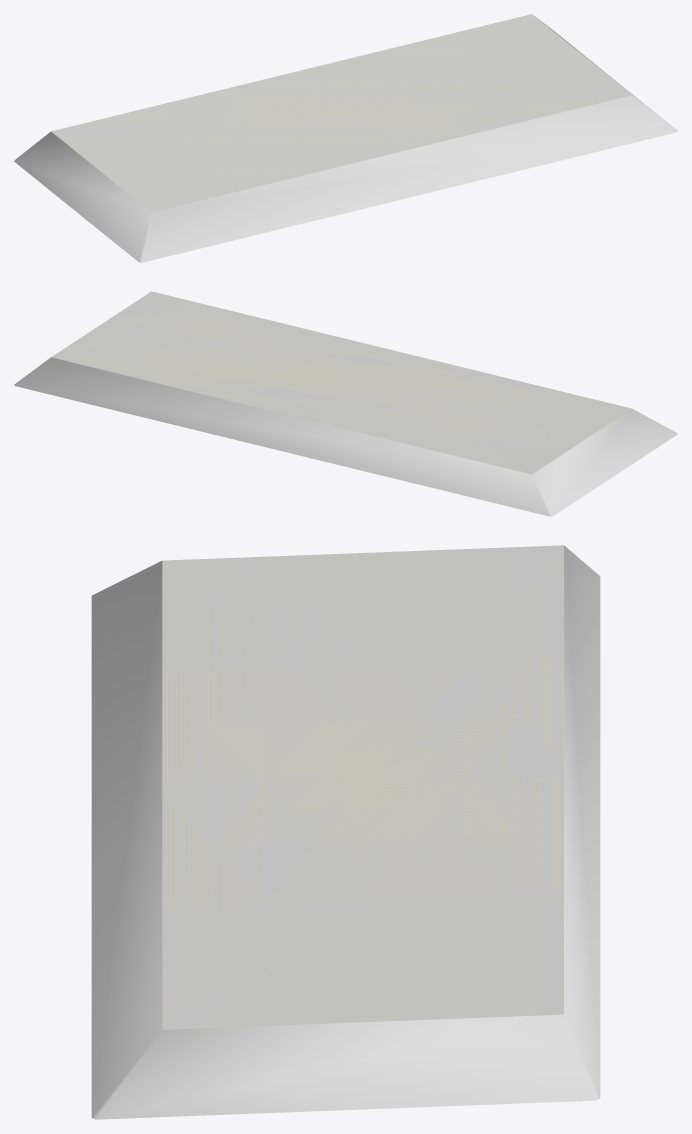
Rendered from original-66.obj.
The picture shows the model from 3 angles, top to bottom: view 1: azimuth 30°, elevation 25°; view 2: azimuth 150°, elevation 25°; view 3: azimuth 270°, elevation 25°; orthographic projection. The views are drawn at different scales.
Parts seen in each view (by area): view 1: Group66/mesh64/mesh64-geometry#mesh64-geometry; view 2: Group66/mesh64/mesh64-geometry#mesh64-geometry; view 3: Group66/mesh64/mesh64-geometry#mesh64-geometry.
Boxes of the visible parts, bbox=[...] form: Group66/mesh64/mesh64-geometry#mesh64-geometry: bbox=[14, 14, 677, 262]; Group66/mesh64/mesh64-geometry#mesh64-geometry: bbox=[14, 291, 677, 516]; Group66/mesh64/mesh64-geometry#mesh64-geometry: bbox=[91, 545, 600, 1119].
Size of the model in its own units: 0.1748 by 0.0119 by 0.0715.
